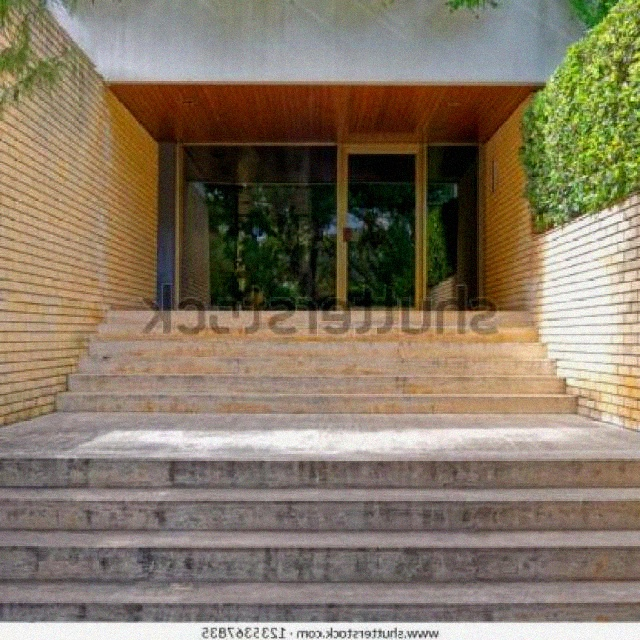stair: (4, 212, 636, 628)
